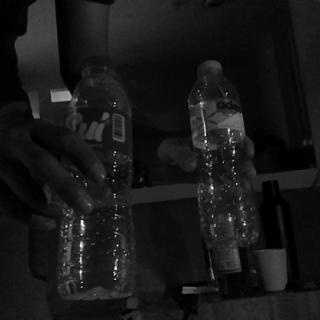plastic_bottles: (54, 57, 136, 300), (190, 60, 264, 248)
